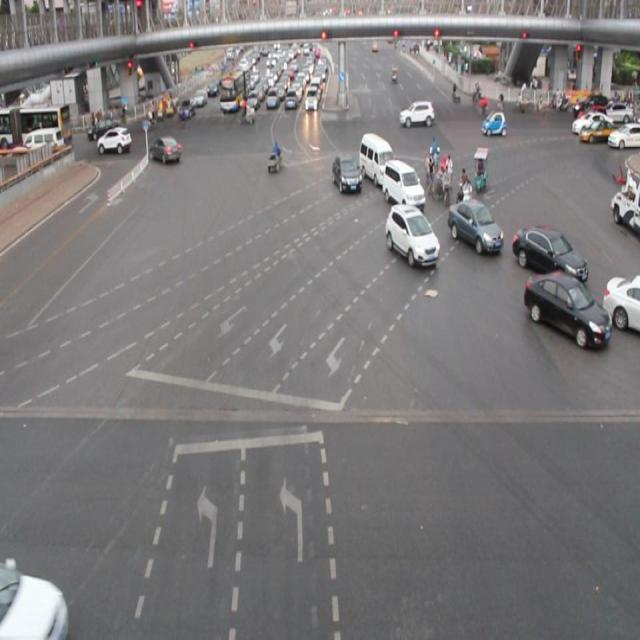car: (522, 278, 608, 362), (512, 218, 589, 282), (382, 207, 436, 269), (451, 202, 503, 263), (385, 162, 425, 208), (99, 124, 132, 160), (334, 158, 362, 198), (151, 134, 179, 172), (402, 100, 434, 132), (578, 114, 607, 148), (609, 119, 636, 154), (485, 113, 508, 141), (284, 86, 299, 112), (265, 85, 281, 108), (194, 84, 208, 110), (182, 96, 194, 122), (305, 93, 319, 114)
